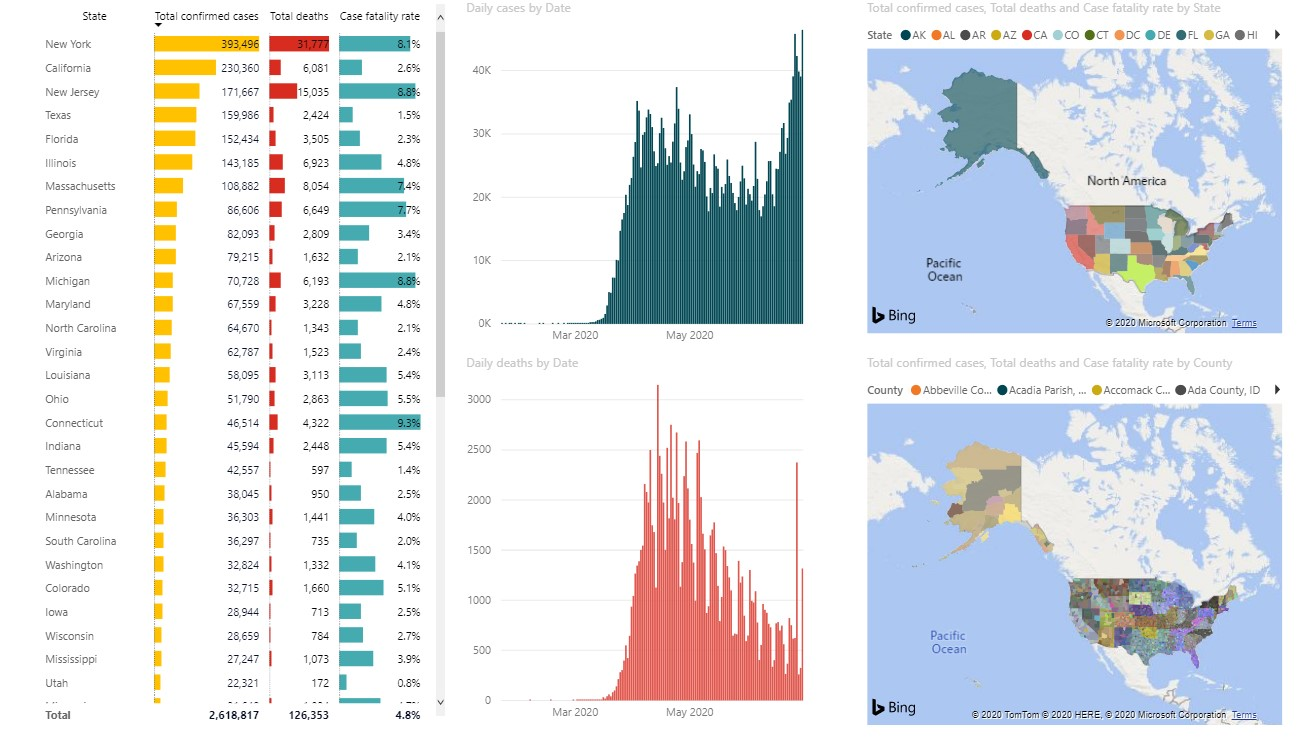

The page's visual inventory and layout, read from the dashboard file:
{"tool":"powerbi","page":{"name":"Dashboard 2","canvas":[1280,720],"ordinal":1},"visuals":[{"type":"pivotTable","fields":{"Rows":["StateDim.State"],"Values":["COVID measures.Total confirmed cases","COVID measures.Total deaths","COVID measures.Case fatality rate"]},"box":[35.1,0,403.6,710.7],"z":0},{"type":"clusteredColumnChart","fields":{"Y":["Sum(COVID.Daily cases)"],"Category":["COVID.Date"]},"box":[449.4,0,361.7,345.1],"z":1000},{"type":"filledMap","title":"Total confirmed cases, Total deaths and Case fatality rate by State","fields":{"Category":["StateDim.State"],"Series":["COVID.State"]},"box":[839.4,0,414.3,330.5],"z":2000},{"type":"clusteredColumnChart","fields":{"Y":["Sum(COVID.Daily deaths)"],"Category":["COVID.Date"]},"box":[449.4,345.1,361.7,365.6],"z":3000},{"type":"filledMap","title":"Total confirmed cases, Total deaths and Case fatality rate by County","fields":{"Category":["COVID.County"],"Series":["COVID.County"]},"box":[839,345,414,366],"z":4000}]}

Visuals, with their boxes in screenshot pixels (x1, y1, x2, y2), scaled from the page's 1280x720 canvas onto the 1314x737 screenshot:
pivotTable - StateDim.State x COVID measures.Total confirmed cases: x1=36 y1=0 x2=450 y2=727
clusteredColumnChart - Sum(COVID.Daily cases) x COVID.Date: x1=461 y1=0 x2=833 y2=353
"Total confirmed cases, Total deaths and Case fatality rate by State" filledMap: x1=862 y1=0 x2=1287 y2=338
clusteredColumnChart - Sum(COVID.Daily deaths) x COVID.Date: x1=461 y1=353 x2=833 y2=727
"Total confirmed cases, Total deaths and Case fatality rate by County" filledMap: x1=861 y1=353 x2=1286 y2=728
